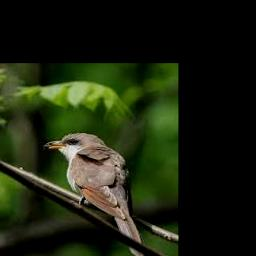Cuckoo: (44, 133, 146, 256)
